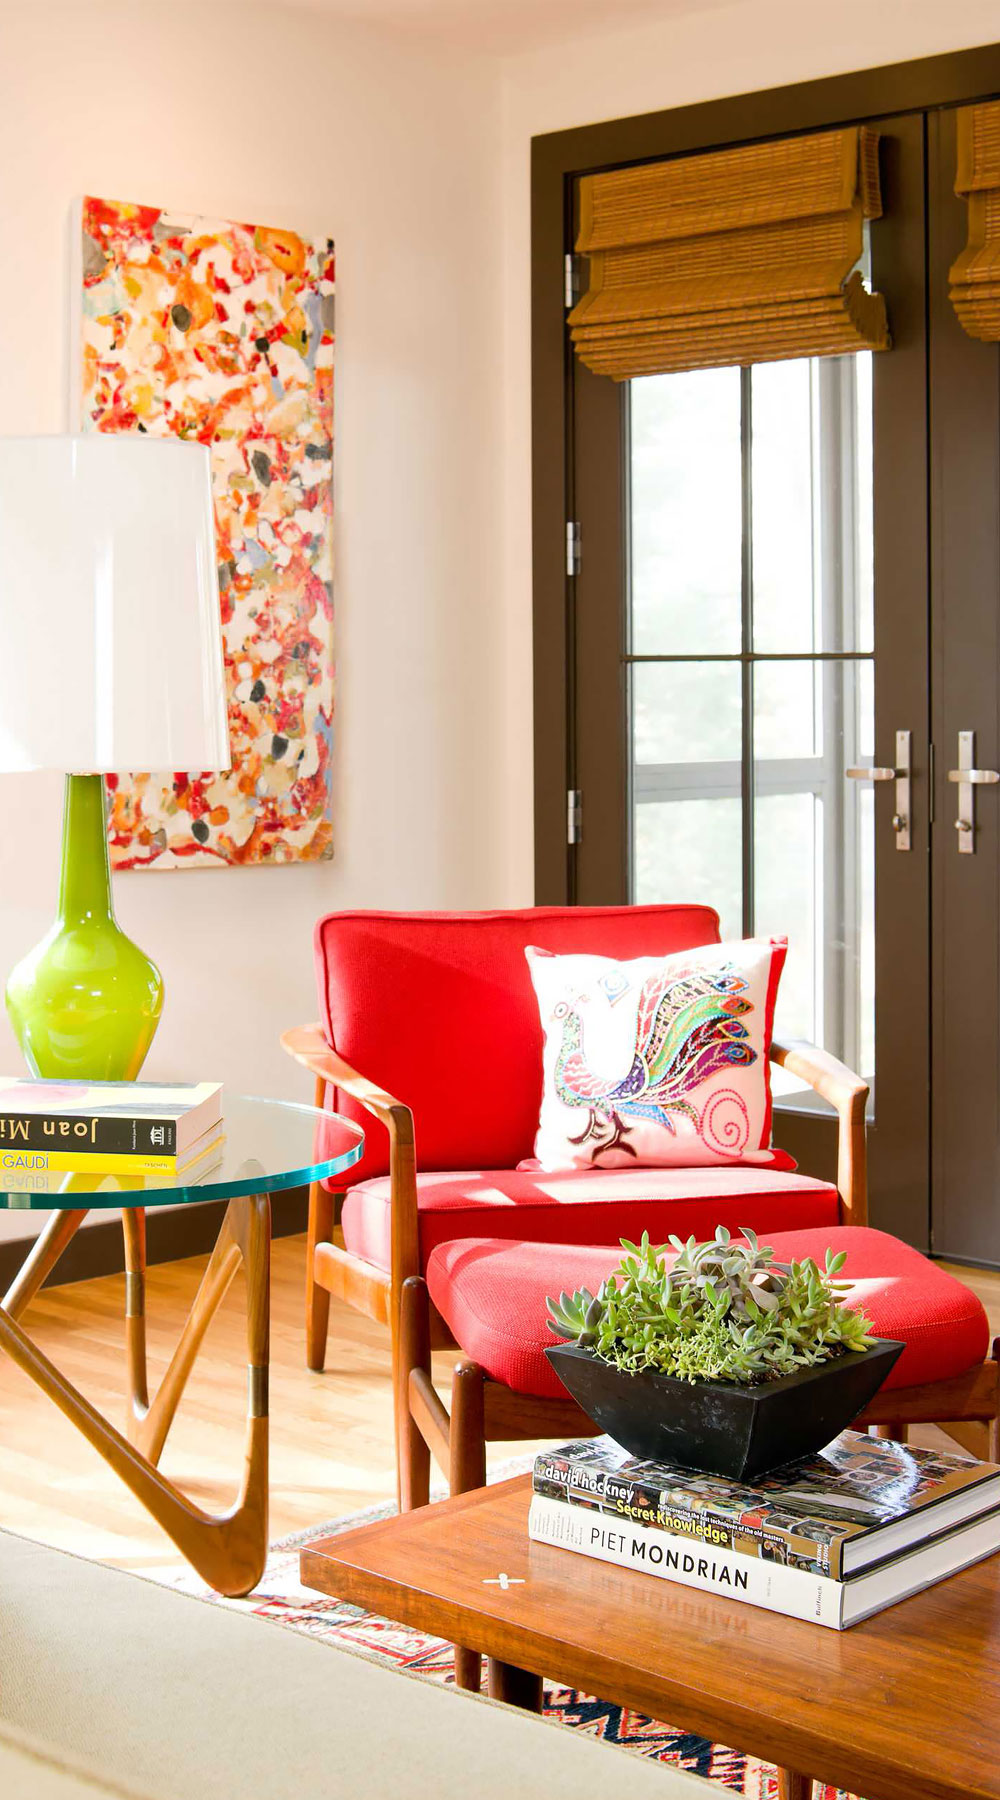coklat: (304, 1497, 1000, 1793)
hijau: (2, 785, 172, 1088)
hitam: (564, 1347, 900, 1470)
merah: (333, 907, 589, 1332), (445, 1241, 986, 1352)
putih: (6, 430, 244, 783)
